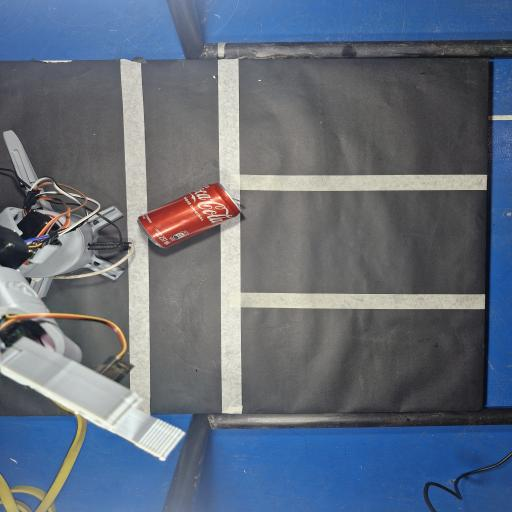lata: (138, 183, 240, 248)
